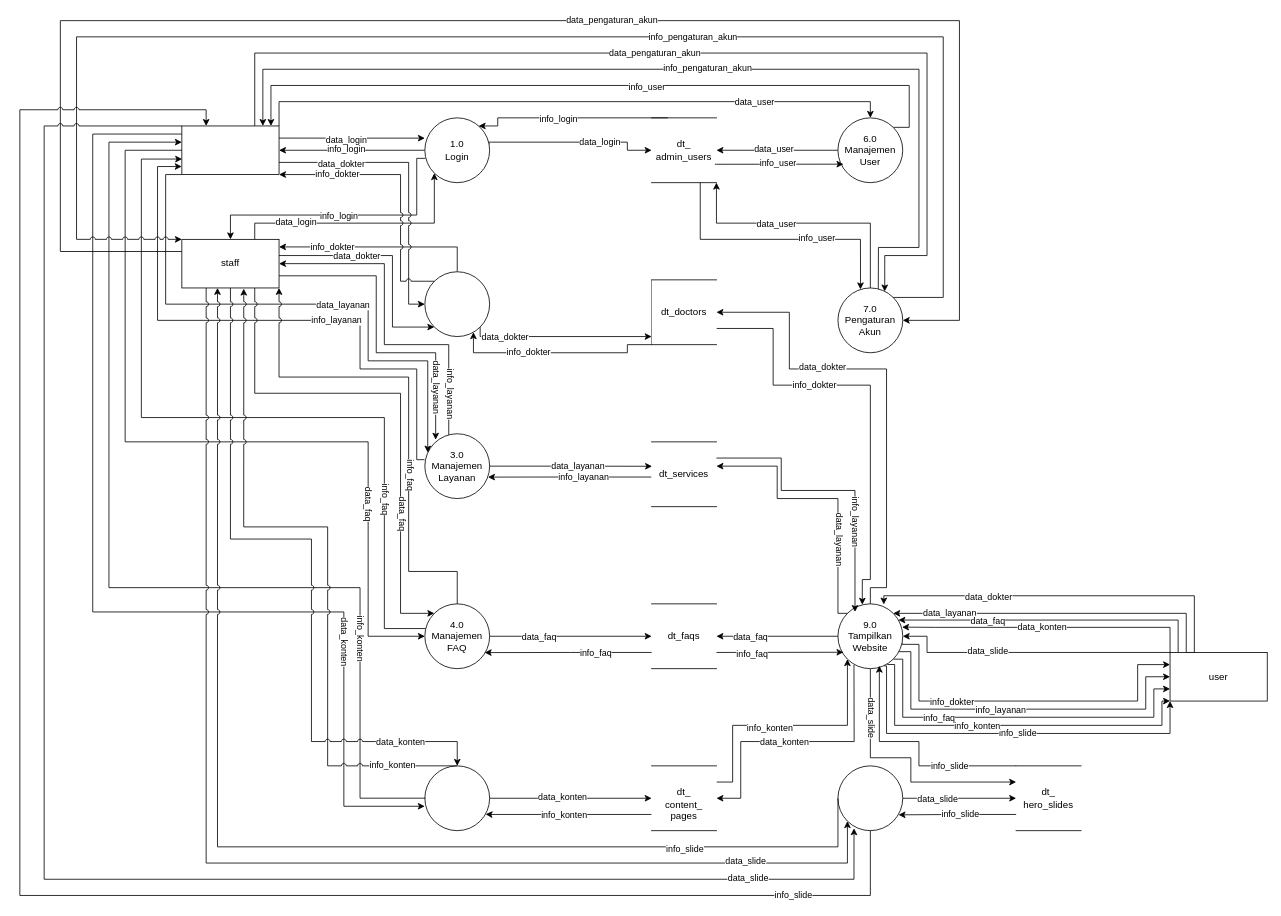
Some shapes in this 1281 by 916 pixel diagram are drawn without their labels. Each missing label, with the centre of its shape:
10.0 Manajemen Hero Slides: pixel 870 798
2.0 Manajemen Dokter: pixel 457 304
5.0 Manajemen Konten: pixel 457 798
admin: pixel 230 150
